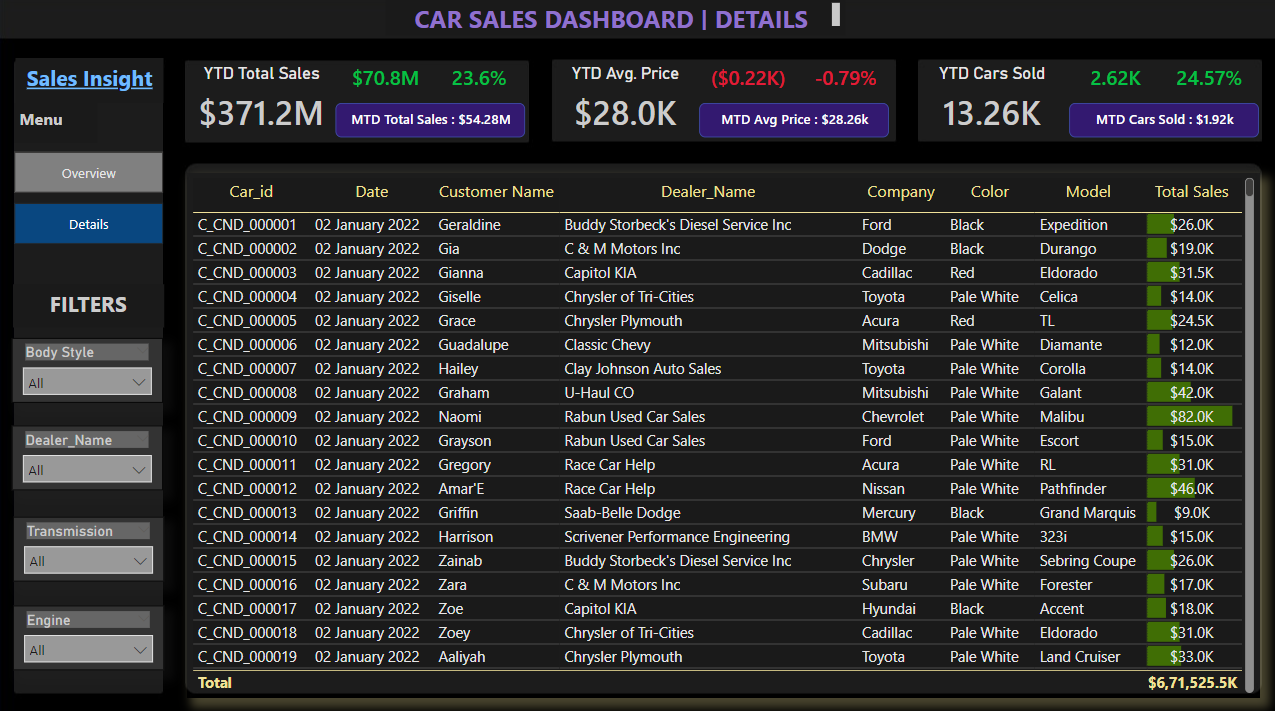

What the dashboard file says about the page in this screenshot:
{"tool":"powerbi","page":{"name":"Details","canvas":[1280,720],"ordinal":1},"visuals":[{"type":"card","title":"YTD Total Sales","fields":{"Values":["car_data.YTD Total Sales"]},"box":[188.2,65.1,149.6,79.6],"z":0},{"type":"card","fields":{"Values":["car_data.Sales Difference"]},"box":[338.4,58,98.1,47],"z":1000},{"type":"card","fields":{"Values":["car_data.YoY Growth"]},"box":[432.3,58,98.1,47],"z":2000},{"type":"card","fields":{"Values":["car_data.MTD KPI"]},"box":[337,105,189.2,34.5],"z":3000},{"type":"card","fields":{"Values":["car_data.YoY Avg Price"]},"box":[798.3,58,98.1,47],"z":4000},{"type":"card","title":"YTD Avg. Price","fields":{"Values":["car_data.YTD Avg Price"]},"box":[552.5,65.1,149.6,79.6],"z":5000},{"type":"card","fields":{"Values":["car_data.Avg price Difference"]},"box":[701.6,58,98.1,47],"z":6000},{"type":"card","fields":{"Values":["car_data.MTD Avg Price KPI"]},"box":[701.6,105,189.2,34.5],"z":7000},{"type":"card","title":"YTD Cars Sold","fields":{"Values":["car_data.YTD Cars Sold"]},"box":[918.4,64.9,150.5,80.1],"z":8000},{"type":"card","fields":{"Values":["car_data.YoY Cars Sold"]},"box":[1162.9,58,98.1,47],"z":9000},{"type":"card","fields":{"Values":["car_data.Cars Sold Diff"]},"box":[1069,58,98.1,47],"z":10000},{"type":"card","fields":{"Values":["car_data.MTD Cars Sold KPI"]},"box":[1071.7,105,189.2,34.5],"z":11000},{"type":"slicer","fields":{"Values":["car_data.Body Style"]},"box":[13.3,340.2,150.8,65.1],"z":12000},{"type":"slicer","fields":{"Values":["car_data.Dealer_Name"]},"box":[13.3,427.1,150.8,65.1],"z":13000},{"type":"slicer","fields":{"Values":["car_data.Transmission"]},"box":[14.5,518.8,150.8,65.1],"z":14000},{"type":"slicer","fields":{"Values":["car_data.Engine"]},"box":[14.5,608,150.8,65.1],"z":15000},{"type":"textbox","box":[14.5,285.9,150.8,43.4],"z":16000},{"type":"textbox","box":[387.3,0,459.7,37.4],"z":17000},{"type":"tableEx","fields":{"Values":["car_data.Car_id","car_data.Date","car_data.Customer Name","car_data.Dealer_Name","car_data.Company","car_data.Color","car_data.Model","car_data.Price ($)"]},"box":[188.2,174.9,1072.5,524.8],"z":18000},{"type":"textbox","box":[15.7,105,83.2,39.8],"z":19000},{"type":"pageNavigator","box":[15.7,153.2,149.6,92.9],"z":20000},{"type":"textbox","box":[16.9,60.3,148.4,44.6],"z":21000}]}

Visuals, with their boxes in screenshot pixels (x1, y1, x2, y2), scaled from the page's 1280x720 canvas onto the 1275x711 screenshot:
"YTD Total Sales" card: x1=187 y1=64 x2=336 y2=143
card - car_data.Sales Difference: x1=337 y1=57 x2=435 y2=104
card - car_data.YoY Growth: x1=431 y1=57 x2=528 y2=104
card - car_data.MTD KPI: x1=336 y1=104 x2=524 y2=138
card - car_data.YoY Avg Price: x1=795 y1=57 x2=893 y2=104
"YTD Avg. Price" card: x1=550 y1=64 x2=699 y2=143
card - car_data.Avg price Difference: x1=699 y1=57 x2=797 y2=104
card - car_data.MTD Avg Price KPI: x1=699 y1=104 x2=887 y2=138
"YTD Cars Sold" card: x1=915 y1=64 x2=1065 y2=143
card - car_data.YoY Cars Sold: x1=1158 y1=57 x2=1256 y2=104
card - car_data.Cars Sold Diff: x1=1065 y1=57 x2=1163 y2=104
card - car_data.MTD Cars Sold KPI: x1=1068 y1=104 x2=1256 y2=138
slicer - car_data.Body Style: x1=13 y1=336 x2=163 y2=400
slicer - car_data.Dealer_Name: x1=13 y1=422 x2=163 y2=486
slicer - car_data.Transmission: x1=14 y1=512 x2=165 y2=577
slicer - car_data.Engine: x1=14 y1=600 x2=165 y2=665
textbox: x1=14 y1=282 x2=165 y2=325
textbox: x1=386 y1=0 x2=844 y2=37
tableEx - car_data.Car_id x car_data.Date: x1=187 y1=173 x2=1256 y2=691
textbox: x1=16 y1=104 x2=99 y2=143
pageNavigator: x1=16 y1=151 x2=165 y2=243
textbox: x1=17 y1=60 x2=165 y2=104
